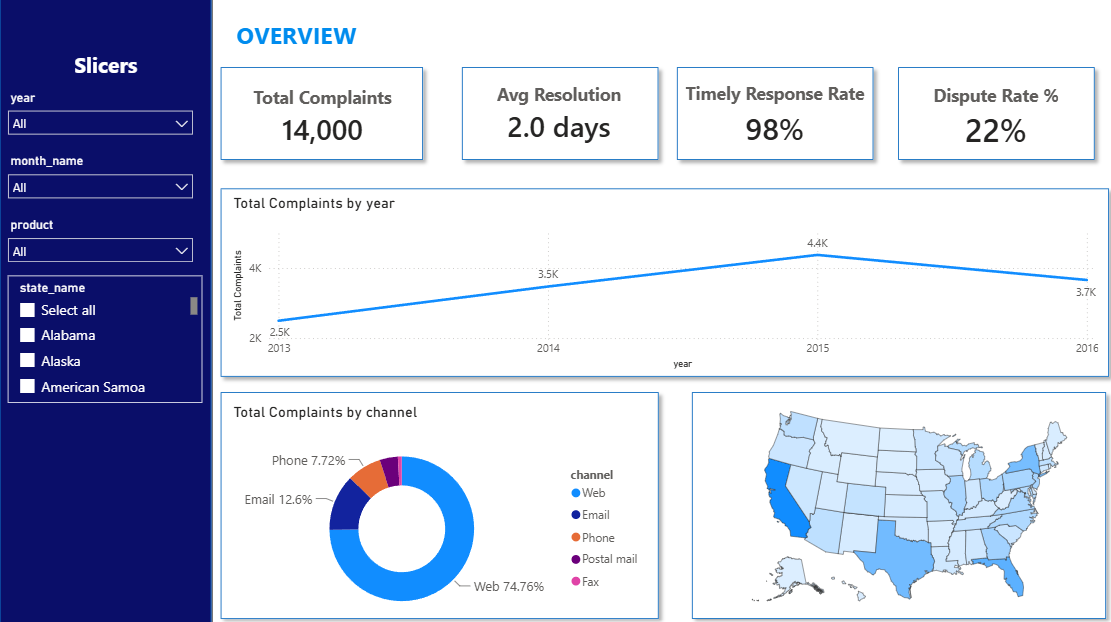

This screenshot's page, from the dashboard's own definition file:
{"tool":"powerbi","page":{"name":"Overview","canvas":[1280,720],"ordinal":0},"visuals":[{"type":"group","id":"g1","title":"Group 1","box":[244,70.7,1033.3,649.3],"z":0},{"type":"shape","box":[1018.7,70.7,242.7,124],"z":0,"group":"g1"},{"type":"cardVisual","fields":{"Data":["_Measures.Dispute Rate %"]},"box":[1005.7,52.9,267.1,164.3],"z":1000},{"type":"shape","box":[765.3,70.7,242.7,124],"z":1000,"group":"g1"},{"type":"textbox","box":[244.5,19.1,1035.5,58.6],"z":2000},{"type":"shape","box":[520,70.7,242.7,124],"z":2000,"group":"g1"},{"type":"shape","box":[244,70.7,249.3,124],"z":3000,"group":"g1"},{"type":"lineChart","fields":{"Y":["_Measures.Total Complaints (Received)"],"Category":["public dim_date.year"]},"box":[262.9,224.3,998.6,204.3],"z":3000},{"type":"cardVisual","fields":{"Data":["_Measures.Total Complaints (Received)"]},"box":[246.7,58.7,245.3,153.3],"z":4000},{"type":"shape","box":[244,209.4,1033.3,233.3],"z":4000,"group":"g1"},{"type":"cardVisual","fields":{"Data":["_Measures.Avg Resolution Days"]},"box":[512,50.7,257.5,163.8],"z":5000},{"type":"shape","box":[782.6,442.6,491.4,277.1],"z":5000,"group":"g1"},{"type":"cardVisual","fields":{"Data":["_Measures.Timely Response Rate %"]},"box":[754.7,52,265,163.8],"z":6000},{"type":"shape","box":[244,442.7,518.7,277.3],"z":6000,"group":"g1"},{"type":"shapeMap","fields":{"Category":["public dim_state.state_name"],"Value":["_Measures.Complaints for Map"]},"box":[801.4,455.7,478.7,250.7],"z":7000},{"type":"shape","box":[0,0,244,721.3],"z":8000},{"type":"slicer","fields":{"Values":["public dim_state.state_name"]},"box":[9.3,317.3,222.7,145.3],"z":9000},{"type":"slicer","fields":{"Values":["public dim_date.year"]},"box":[0,100,231.2,72.5],"z":10000},{"type":"slicer","fields":{"Values":["public dim_date.month_name"]},"box":[0,172.5,231.2,72.5],"z":11000},{"type":"slicer","fields":{"Values":["public dim_product.product"]},"box":[0,245,231.2,72.5],"z":12000},{"type":"textbox","box":[0,56,244,44],"z":13000},{"type":"donutChart","fields":{"Y":["_Measures.Total Complaints (Received)"],"Category":["public dim_channel.channel"]},"box":[262.9,462.9,481.3,257.3],"z":14000}]}

Visuals, with their boxes on the page's 1280x720 design canvas (x1, y1, x2, y2). These are canvas units, not pixel positions in the 1111x622 screenshot, which may show the page scaled, cropped or inside an application window:
"Group 1" group: 244,71,1277,720
shape: 1019,71,1261,195
cardVisual - _Measures.Dispute Rate %: 1006,53,1273,217
shape: 765,71,1008,195
textbox: 244,19,1280,78
shape: 520,71,763,195
shape: 244,71,493,195
lineChart - _Measures.Total Complaints (Received) x public dim_date.year: 263,224,1262,429
cardVisual - _Measures.Total Complaints (Received): 247,59,492,212
shape: 244,209,1277,443
cardVisual - _Measures.Avg Resolution Days: 512,51,770,214
shape: 783,443,1274,720
cardVisual - _Measures.Timely Response Rate %: 755,52,1020,216
shape: 244,443,763,720
shapeMap - public dim_state.state_name x _Measures.Complaints for Map: 801,456,1280,706
shape: 0,0,244,721
slicer - public dim_state.state_name: 9,317,232,463
slicer - public dim_date.year: 0,100,231,172
slicer - public dim_date.month_name: 0,172,231,245
slicer - public dim_product.product: 0,245,231,318
textbox: 0,56,244,100
donutChart - _Measures.Total Complaints (Received) x public dim_channel.channel: 263,463,744,720
